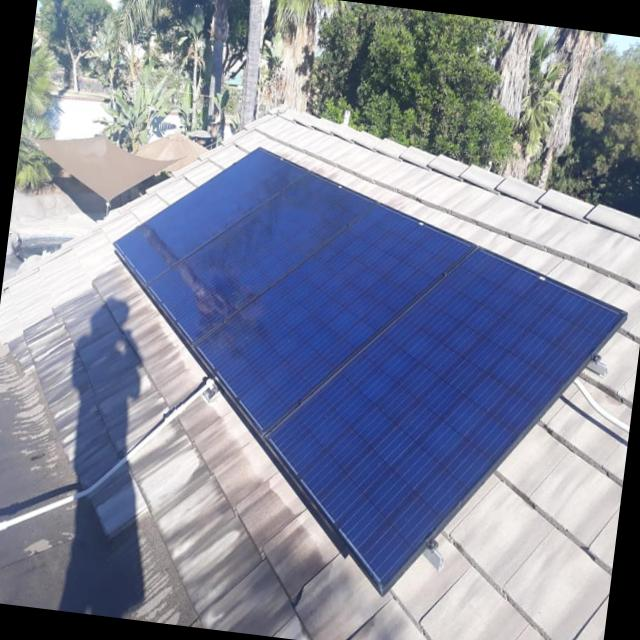no faulty: (120, 150, 619, 581)
